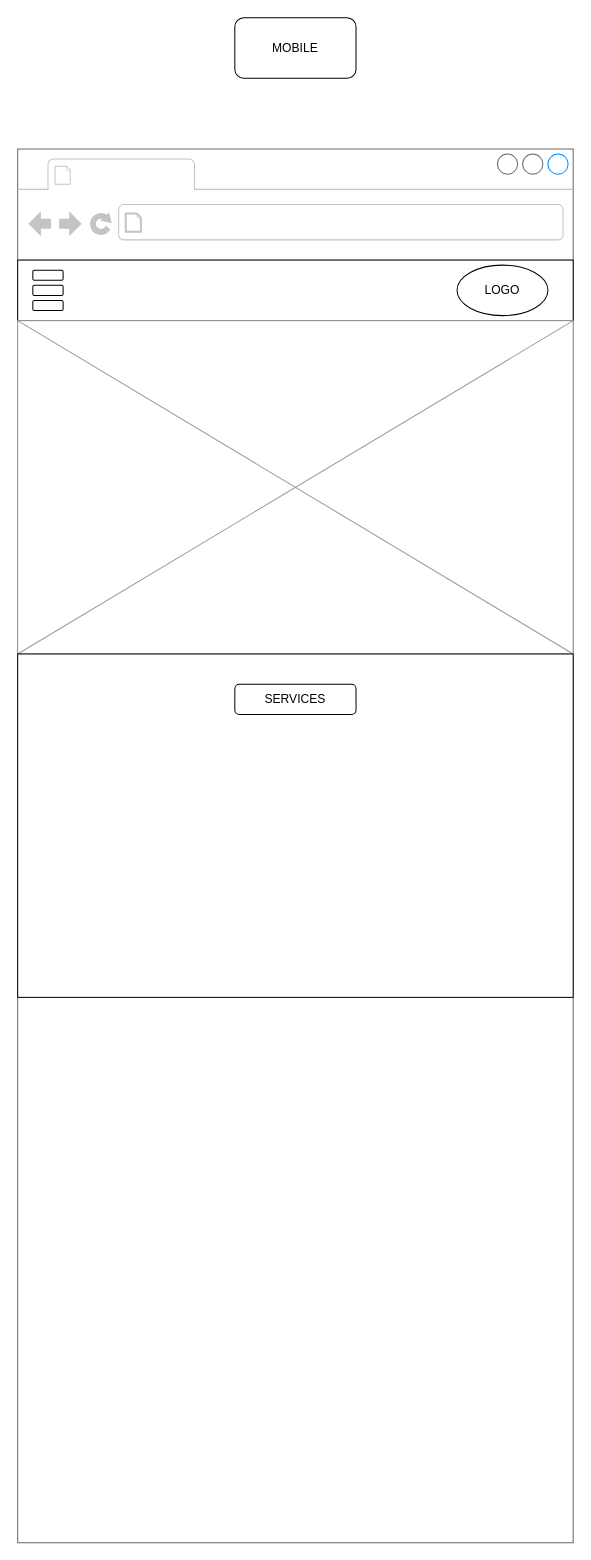
The diagram is 591 pixels wide and 1560 high, and some of its shapes have lost their labels. The box of each missing label's shape, as (x1, y1, x2, y2) in pixels:
https://www.draw.io: (148, 209, 401, 236)
Page 1: (77, 160, 189, 187)
